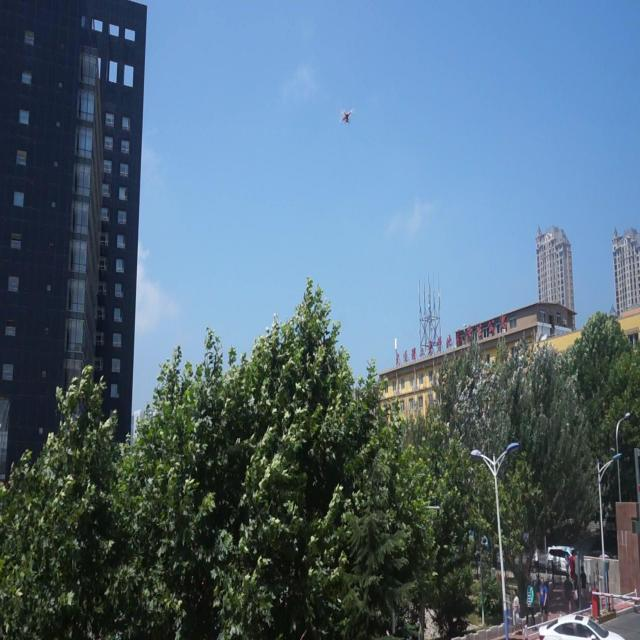UAV: (338, 108, 354, 124)
